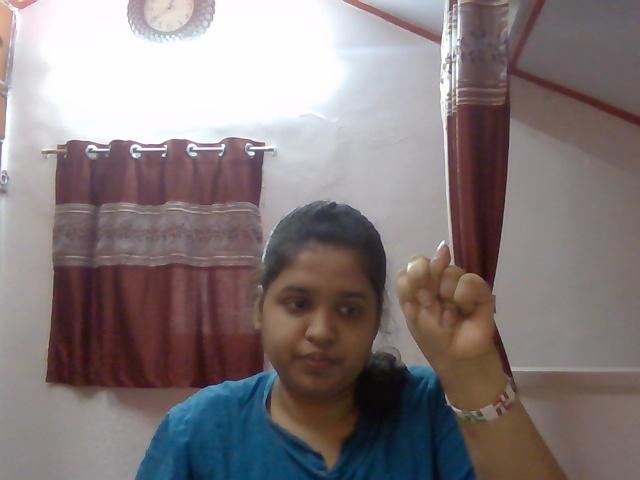n: (385, 226, 513, 370)
